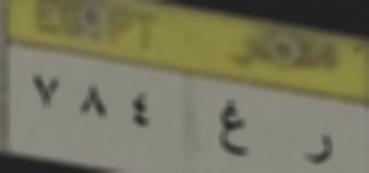4: (125, 86, 155, 138)
7: (29, 70, 64, 114)
8: (74, 74, 109, 126)
ghayn: (212, 95, 254, 163)
raa: (298, 122, 337, 172)
